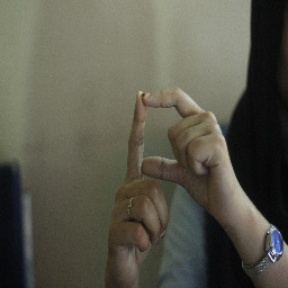D: (120, 84, 222, 201)
